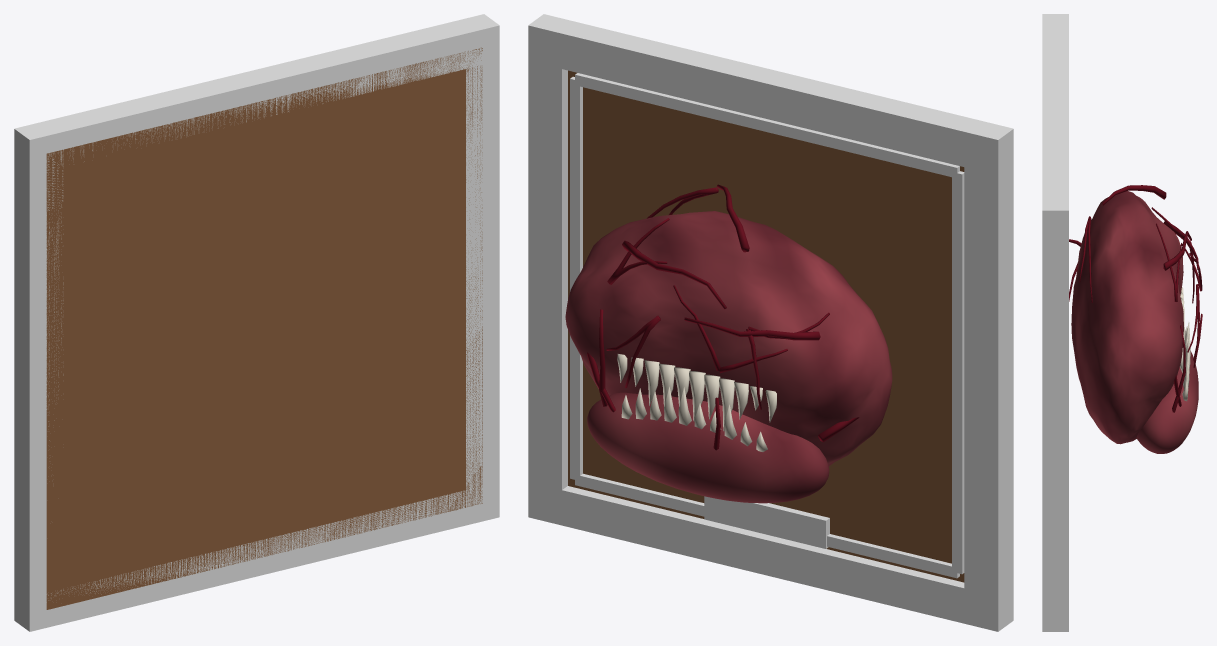
The model's file is wall_of_flesh_trophy_v0.glb.
3 renders of one model, left to right at view 1: azimuth 30°, elevation 25°; view 2: azimuth 150°, elevation 25°; view 3: azimuth 270°, elevation 25°, orthographic. The views are drawn at different scales.
Parts seen in each view (by area): view 1: wall_of_flesh_trophy_v0; view 2: wall_of_flesh_trophy_v0; view 3: wall_of_flesh_trophy_v0.
Part boxes in pixels (x1,y1,x2,y2): wall_of_flesh_trophy_v0: (14, 14, 499, 631); wall_of_flesh_trophy_v0: (528, 14, 1013, 631); wall_of_flesh_trophy_v0: (1042, 14, 1202, 631).
Size of the model in its own units: 1.39 by 1.39 by 0.48.
